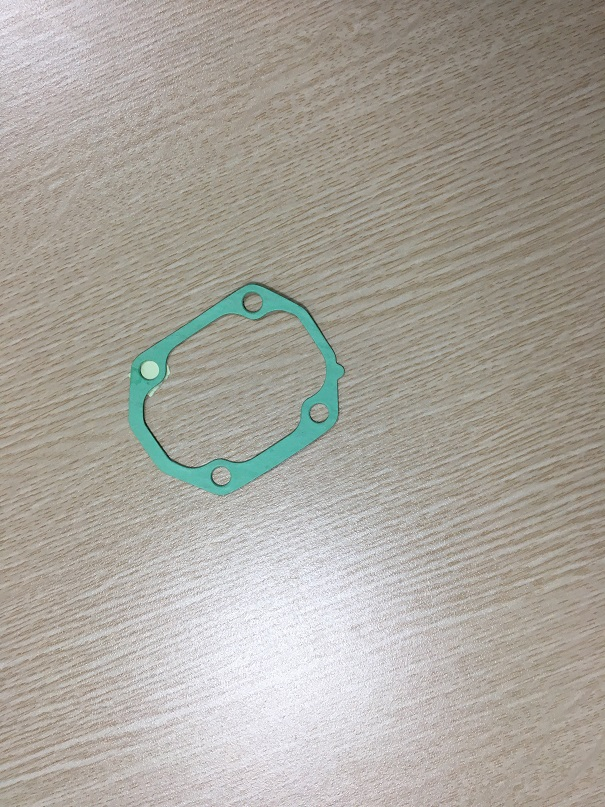type2: (114, 273, 350, 503)
